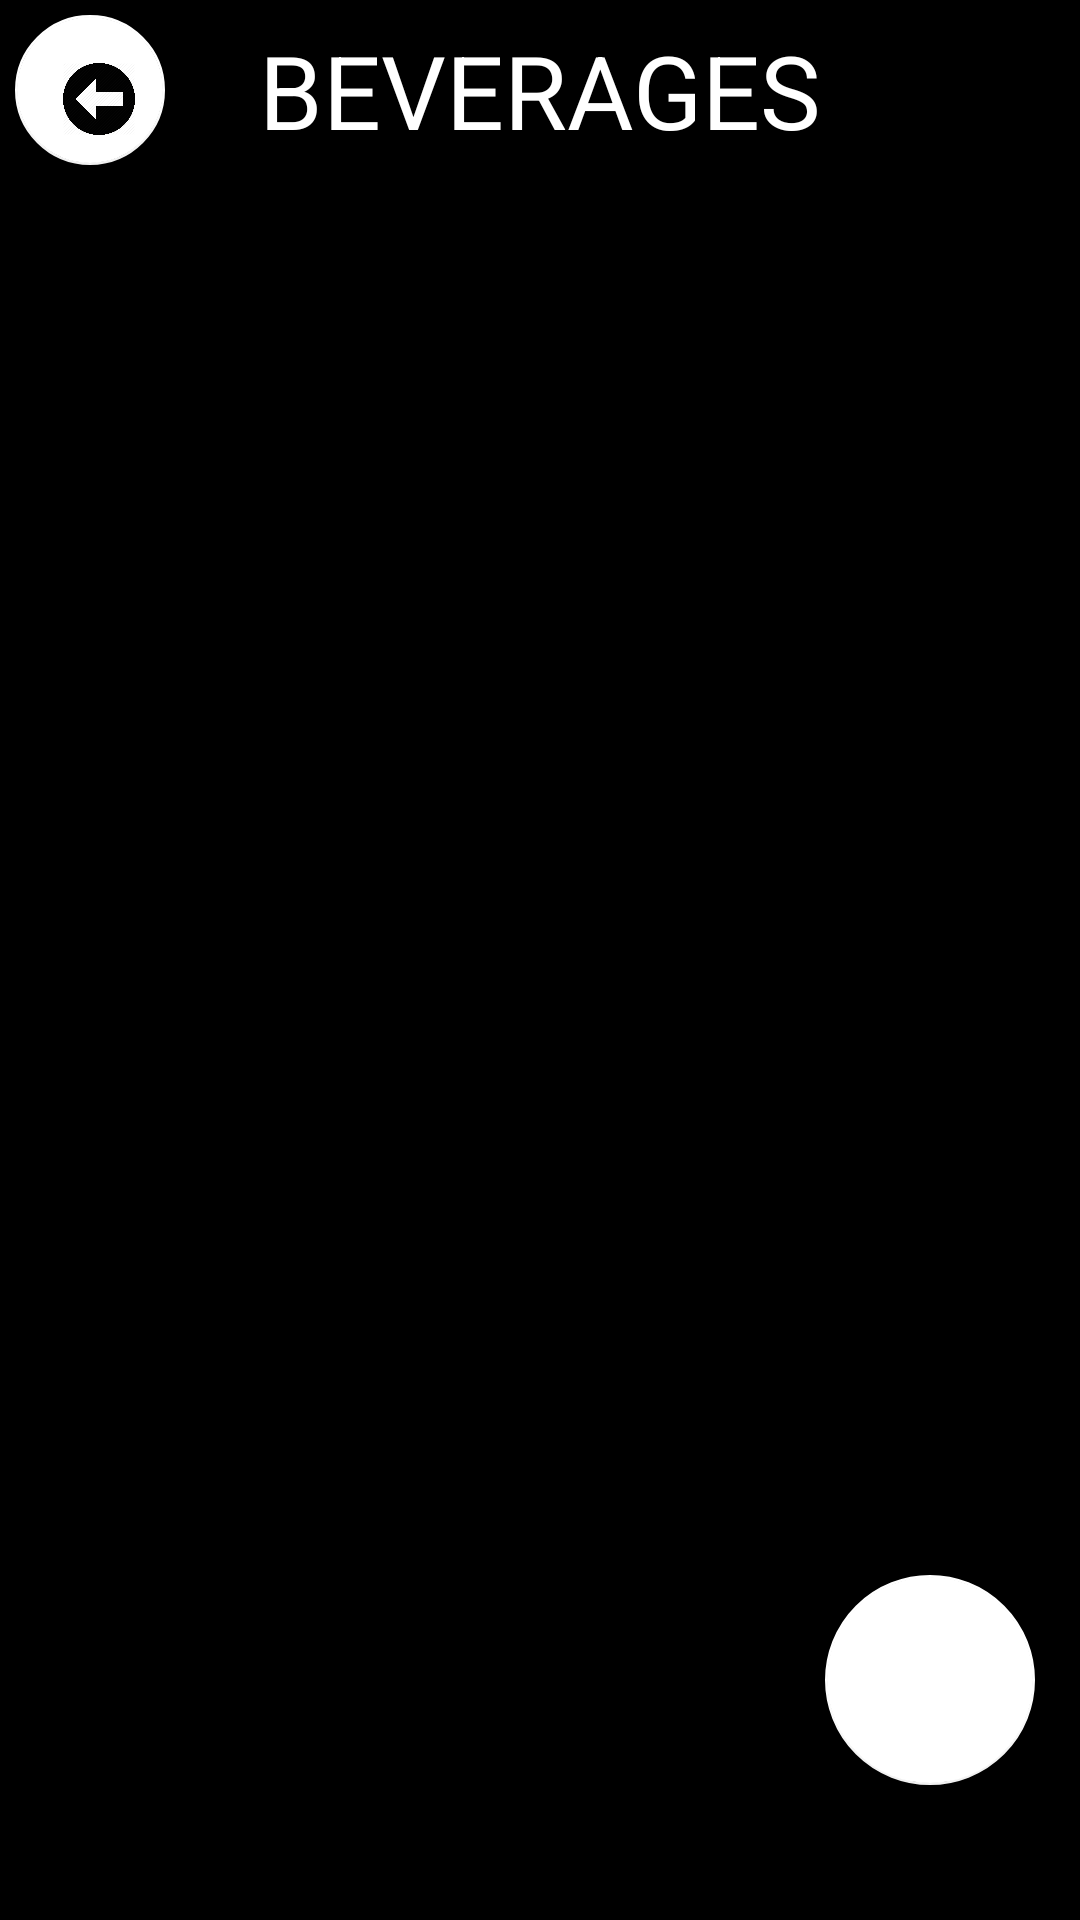

Named icons in this screenshot (1080px×1920px) and their centers, point (x, y):
back: point (90, 90)
